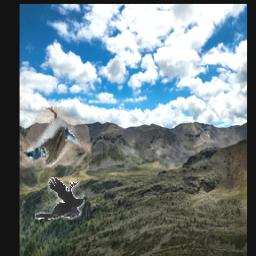Crow: (35, 178, 84, 221)
Swallow: (22, 107, 92, 169)
